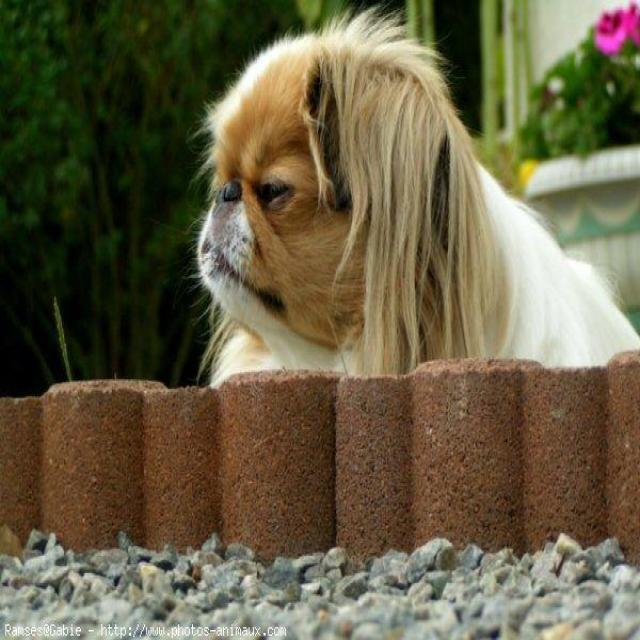husky: (189, 10, 638, 385)
